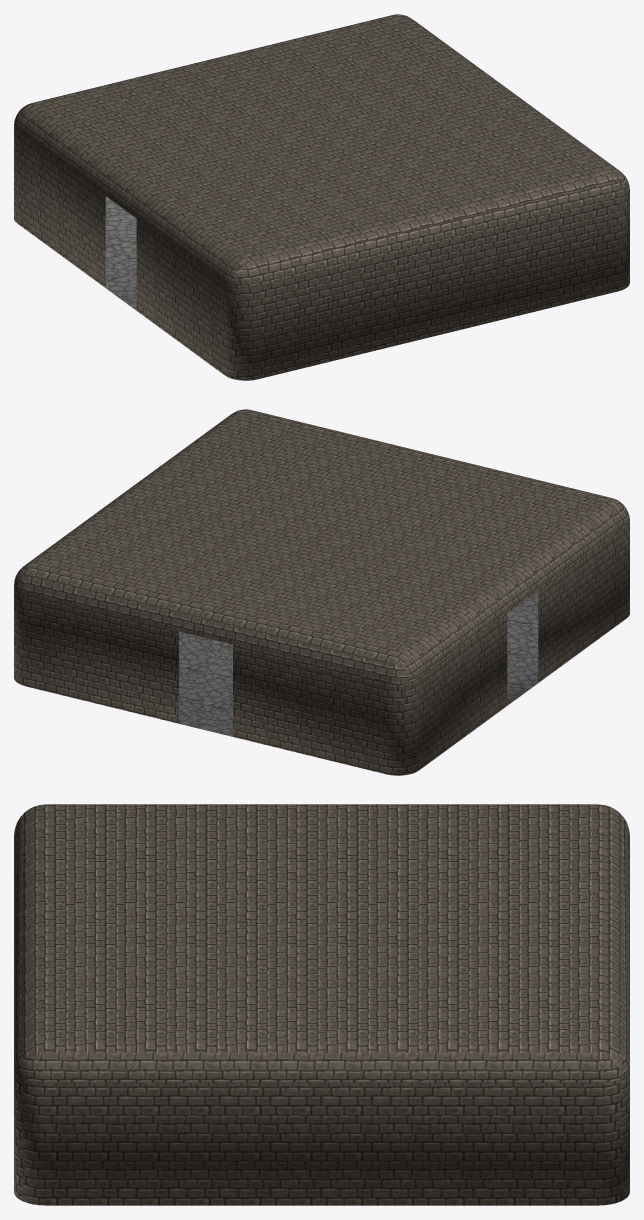
Rendered from example_room_2.glb.
The picture shows the model from 3 angles, top to bottom: view 1: azimuth 30°, elevation 25°; view 2: azimuth 150°, elevation 25°; view 3: azimuth 270°, elevation 25°; orthographic projection. The views are drawn at different scales.
Parts seen in each view (by area): view 1: room.001; view 2: room.001; view 3: room.001.
Part boxes in pixels (x1,y1,x2,y2): room.001: (14, 14, 629, 380); room.001: (14, 409, 629, 775); room.001: (14, 804, 629, 1205).
Bounding box in the file's own units: 7.38 × 2 × 7.38.
2 materials, 2 textured.
